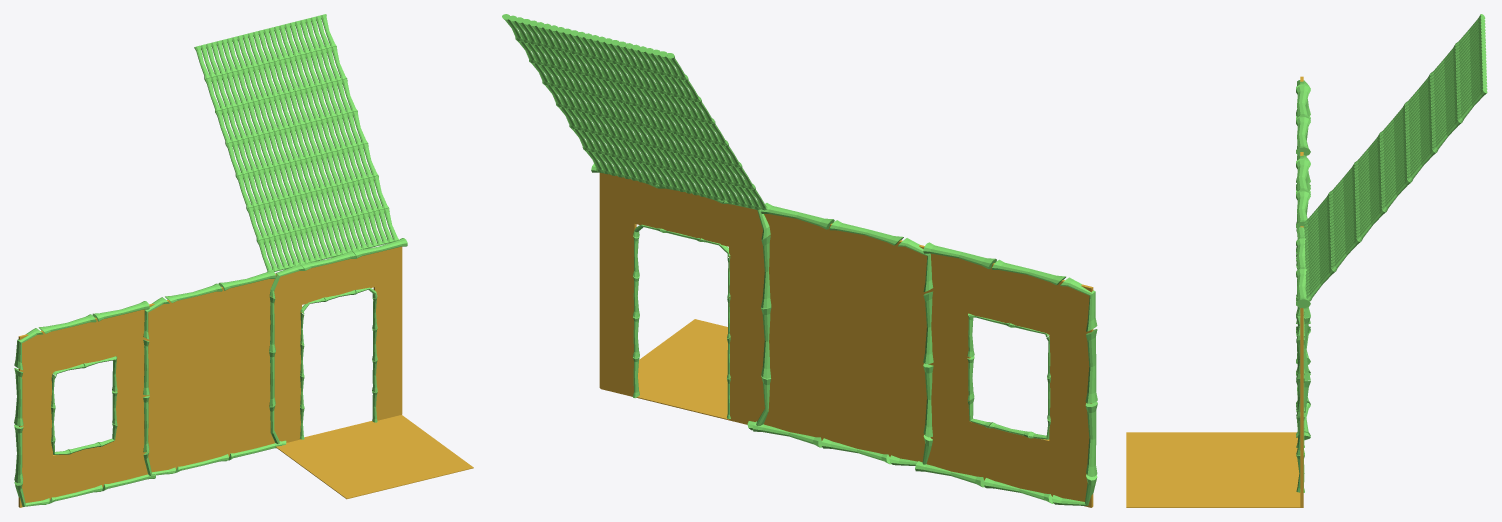
The model's file is Bamboo house Prefabs.fbx.
The picture shows the model from 3 angles, left to right: view 1: azimuth 30°, elevation 25°; view 2: azimuth 150°, elevation 25°; view 3: azimuth 270°, elevation 25°; orthographic projection. The views are drawn at different scales.
Visible parts, largest first — view 1: Bamboo roof, Bamboo Wall, Bamboo Window, Bamboo Door, Bamboo Floor; view 2: Bamboo Wall, Bamboo Window, Bamboo roof, Bamboo Door, Bamboo Floor; view 3: Bamboo roof, Bamboo Floor, Bamboo Door, Bamboo Wall, Bamboo Window.
Boxes of the visible parts, x1,y1,x2,y2 form: Bamboo roof: (194,14,398,271); Bamboo Wall: (143,270,282,475); Bamboo Window: (14,301,155,507); Bamboo Door: (269,238,407,445); Bamboo Floor: (276,415,473,499); Bamboo Wall: (752,203,933,465); Bamboo Window: (915,242,1097,507); Bamboo roof: (502,14,767,210); Bamboo Door: (591,162,771,430); Bamboo Floor: (600,319,747,424); Bamboo roof: (1304,14,1487,301); Bamboo Floor: (1126,432,1303,507); Bamboo Door: (1296,226,1310,507); Bamboo Wall: (1296,152,1310,440); Bamboo Window: (1296,76,1310,364).
Bounding box in the file's own units: 306 × 262 × 204.
